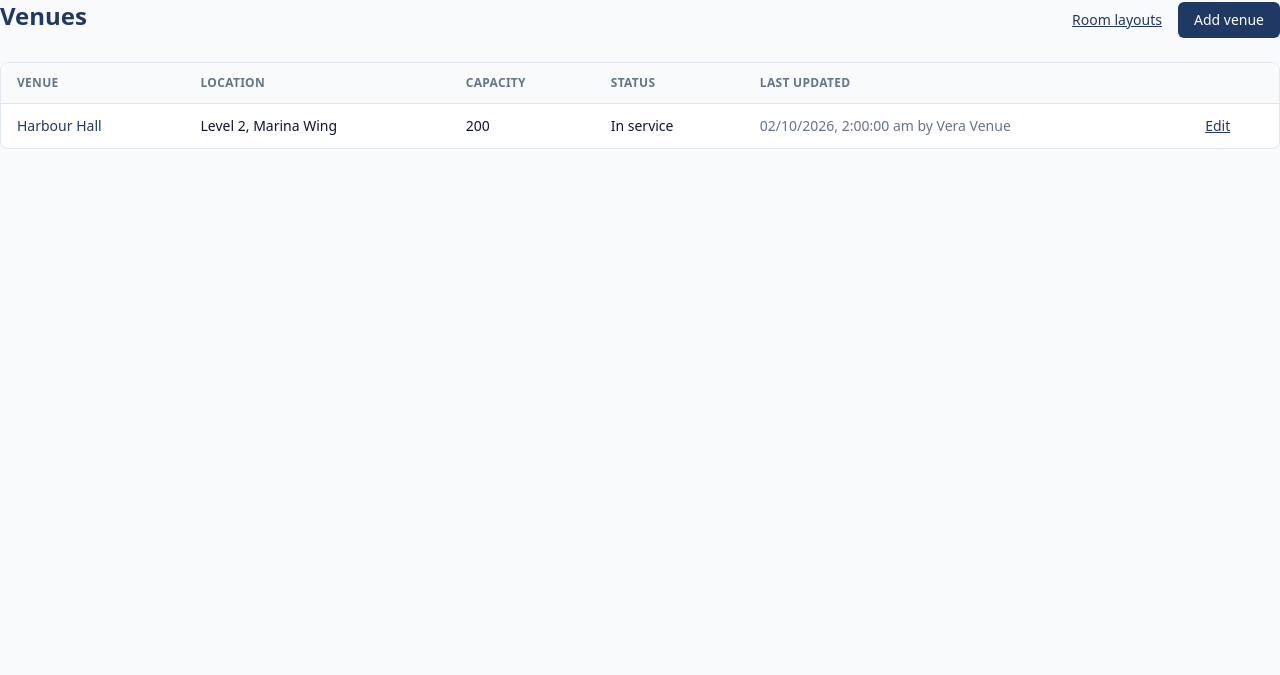
Test: VenueCatalogue (SCRUM-65) › shows a general message for other save failures
Click the button "Add venue".
click(1229, 20)  # box [1178, 2, 1279, 38]
(page scrolled)
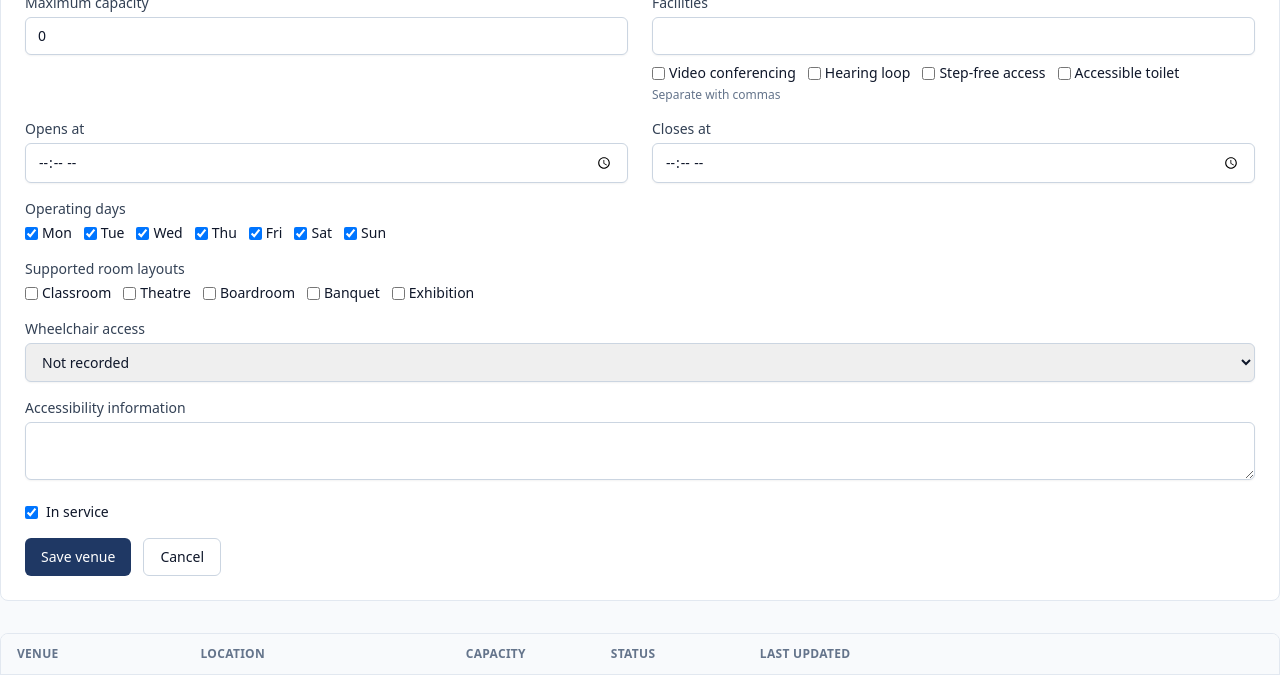
Click the button "Save venue".
click(78, 557)  # box [25, 538, 131, 576]
(page scrolled)
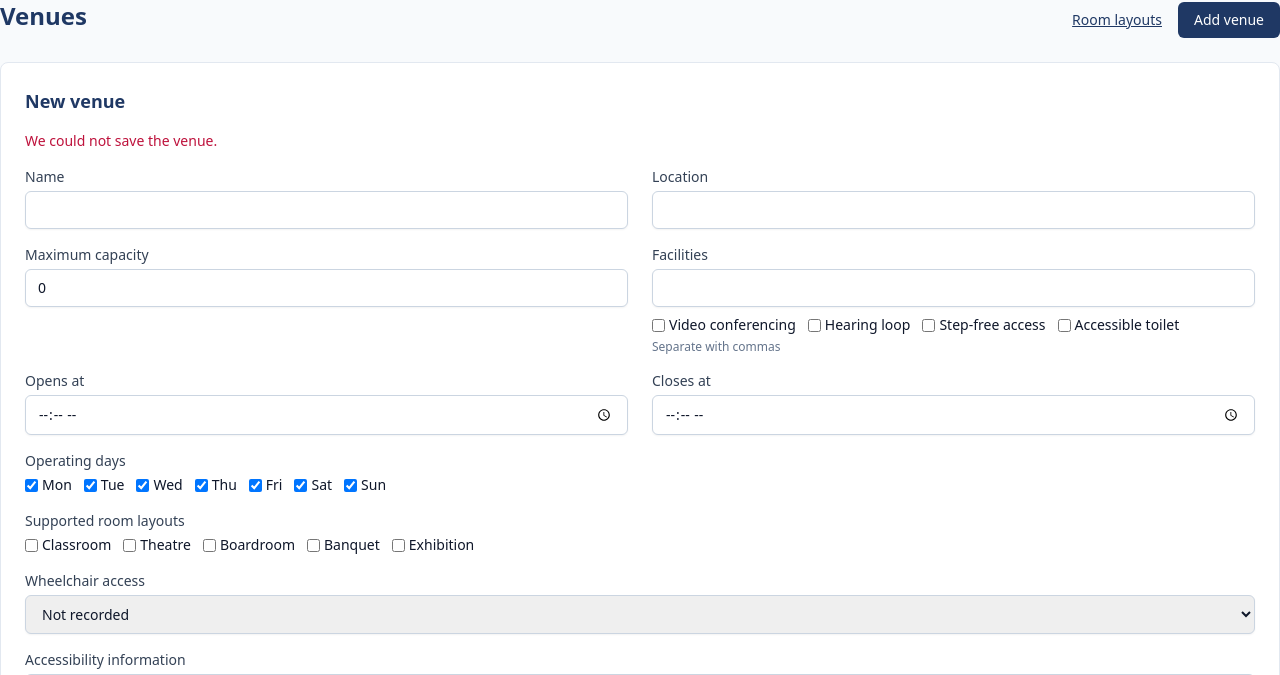
Expected: the message reads "We could not save the venue.", [25, 131, 217, 150]
